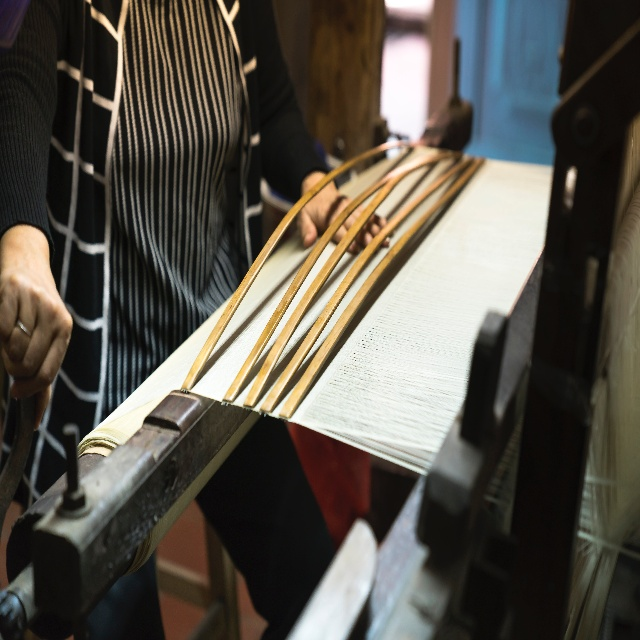Sin_guantes: (0, 245, 73, 430), (297, 176, 394, 254)
